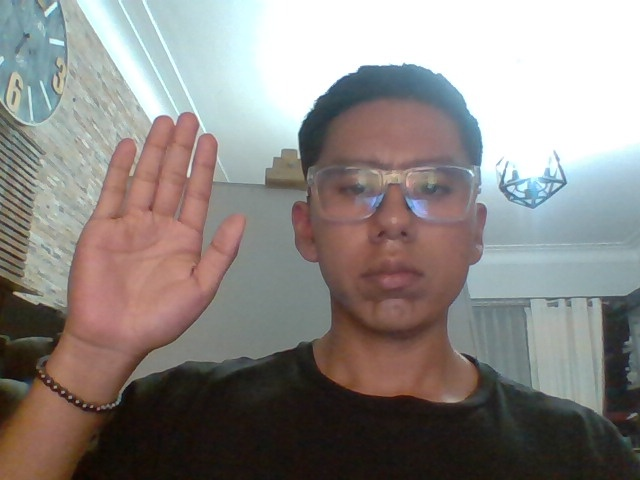Hello: (63, 112, 247, 345)
